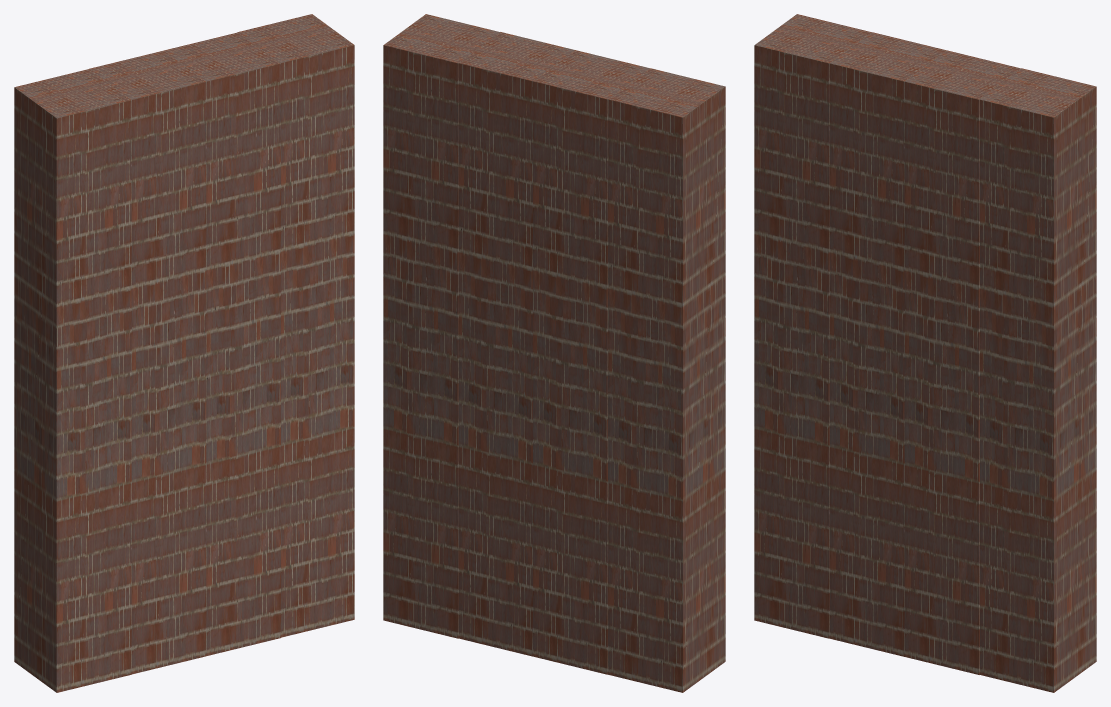
3 views of the same model, side by side, from view 1: azimuth 30°, elevation 25°; view 2: azimuth 150°, elevation 25°; view 3: azimuth 330°, elevation 25° (orthographic).
Parts seen in each view (by area): view 1: default_procedural_mesh_cube_n3d6, default_procedural_mesh_cube_n3d, default_procedural_mesh_cube_n3d5, default_procedural_mesh_cube_n3d4; view 2: default_procedural_mesh_cube_n3d6, default_procedural_mesh_cube_n3d4, default_procedural_mesh_cube_n3d, default_procedural_mesh_cube_n3d5; view 3: default_procedural_mesh_cube_n3d4, default_procedural_mesh_cube_n3d6, default_procedural_mesh_cube_n3d, default_procedural_mesh_cube_n3d5.
Boxes of the visible parts, x1,y1,x2,y2 form: default_procedural_mesh_cube_n3d6: (14, 69, 131, 692); default_procedural_mesh_cube_n3d: (89, 50, 206, 674); default_procedural_mesh_cube_n3d5: (164, 32, 280, 655); default_procedural_mesh_cube_n3d4: (237, 14, 354, 637); default_procedural_mesh_cube_n3d6: (608, 68, 725, 692); default_procedural_mesh_cube_n3d4: (383, 14, 500, 638); default_procedural_mesh_cube_n3d: (533, 50, 649, 674); default_procedural_mesh_cube_n3d5: (458, 32, 574, 656); default_procedural_mesh_cube_n3d4: (979, 68, 1096, 692); default_procedural_mesh_cube_n3d6: (754, 14, 871, 638); default_procedural_mesh_cube_n3d: (829, 32, 946, 656); default_procedural_mesh_cube_n3d5: (904, 50, 1020, 674).
Bounding box in the file's own units: 2.43 × 4.47 × 0.608.
Materials: 1 (1 with a texture image).
